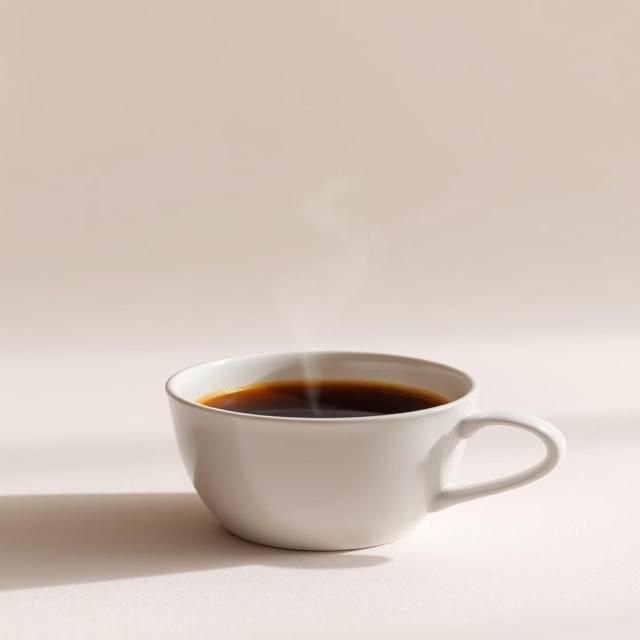glass cup: (163, 349, 569, 553)
